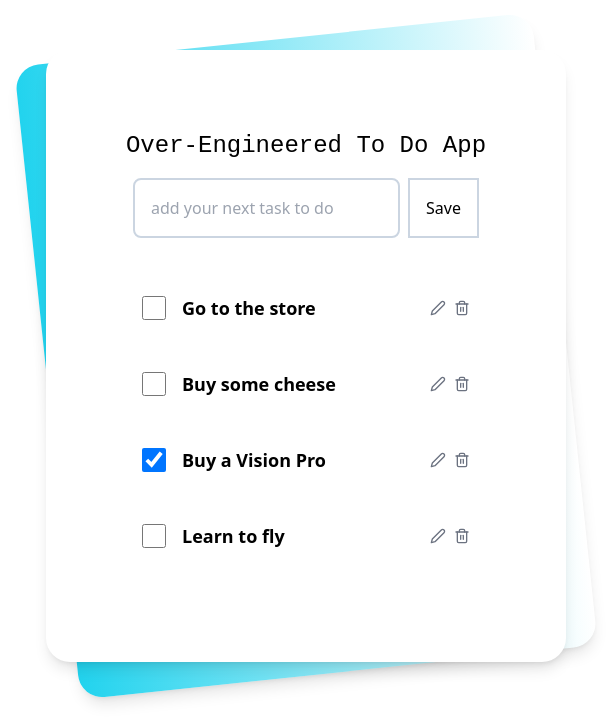
Task › deletes when delete is clicked
Expected: the list item "Go to the store" is shown, top-left (142, 296), bottom-right (470, 320)
Click the button named "Delete". click: click(462, 308)
box: top-left (454, 300), bottom-right (470, 316)
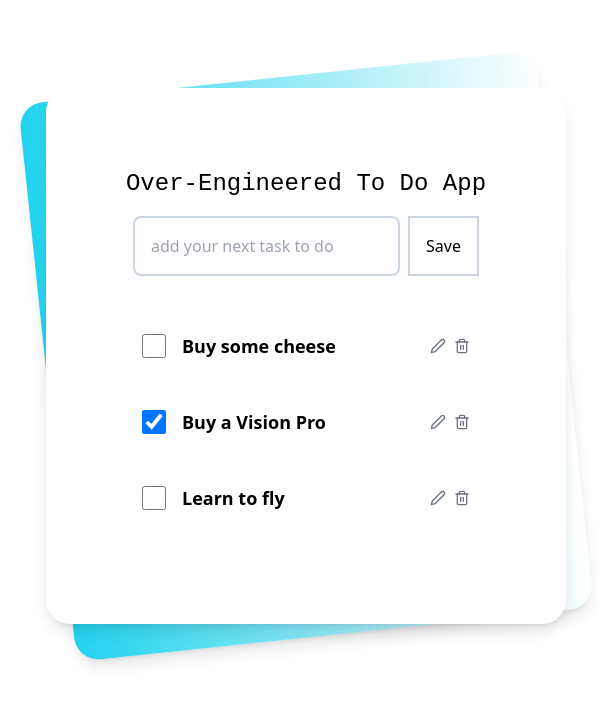
Result: the list item "Buy some cheese" no longer shows "Go to the store" at top-left (142, 334), bottom-right (470, 358)
